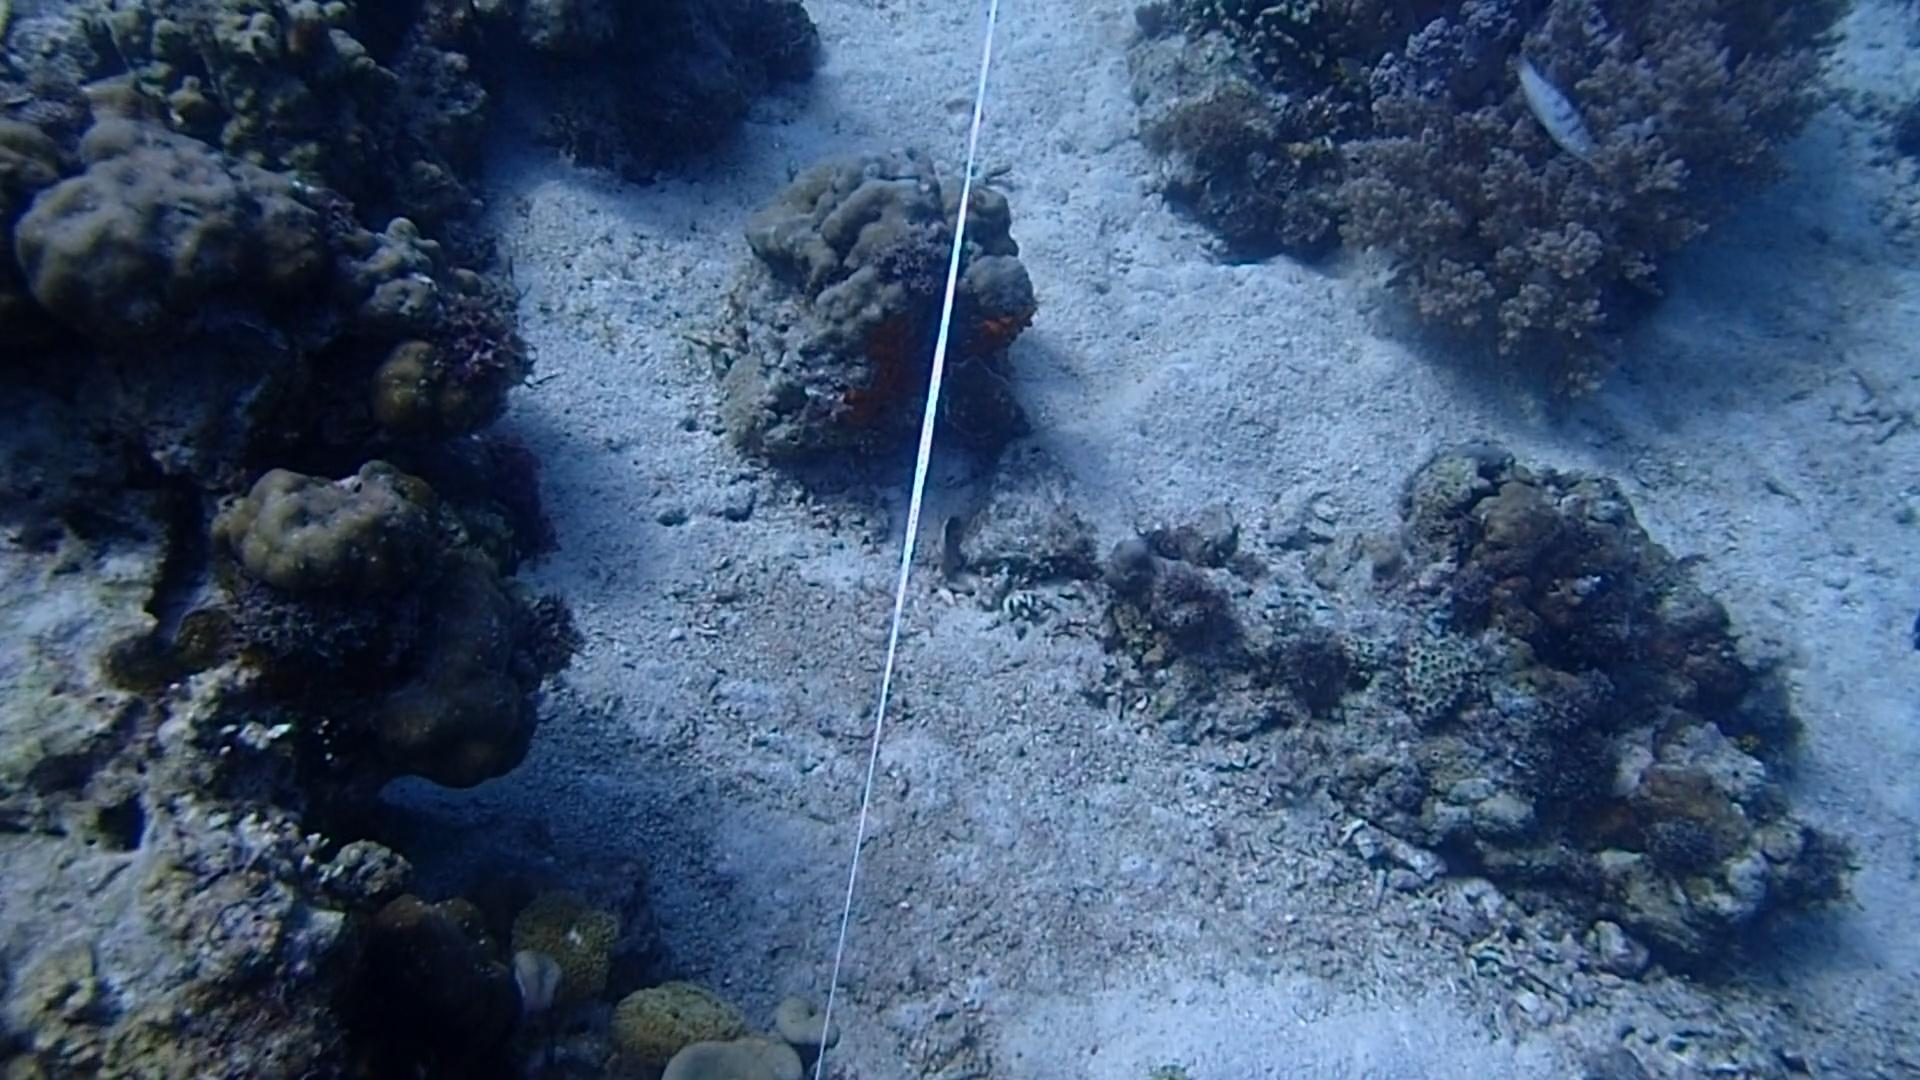Light Fish w Back Stripes: (1498, 42, 1596, 158)
